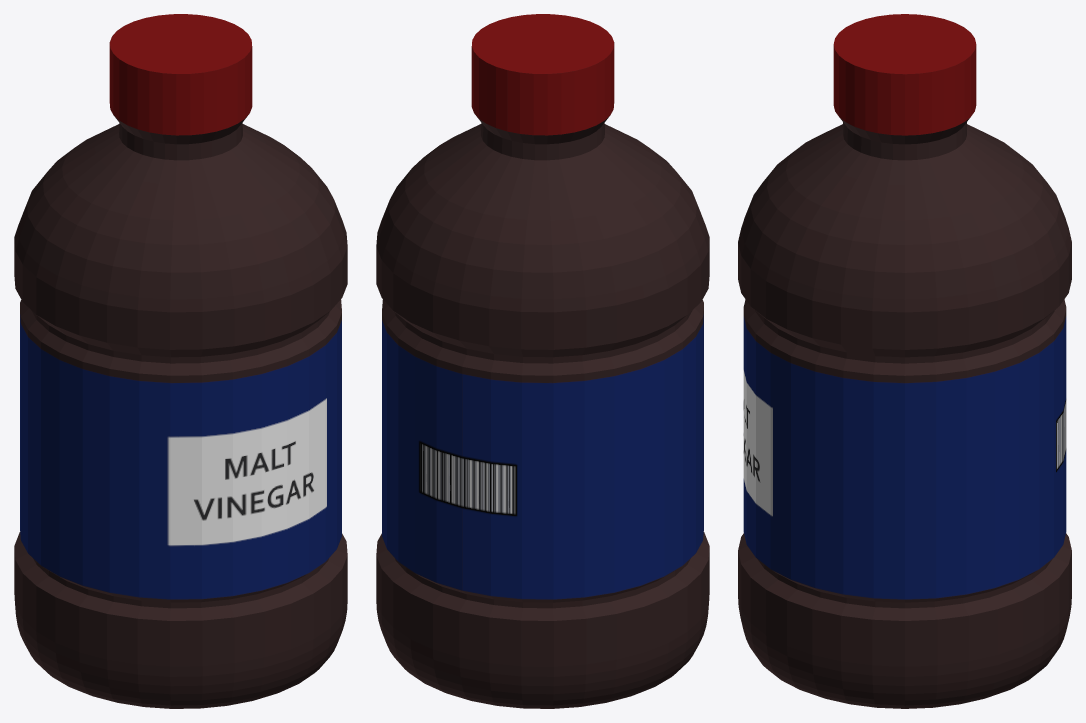
Rendered from vinegar.glb.
3 renders of one model, left to right at view 1: azimuth 30°, elevation 25°; view 2: azimuth 150°, elevation 25°; view 3: azimuth 270°, elevation 25°, orthographic.
Parts seen in each view (by area): view 1: Cylinder; view 2: Cylinder; view 3: Cylinder.
Part boxes in pixels (x1,y1,x2,y2): Cylinder: [14, 14, 347, 708]; Cylinder: [376, 14, 709, 708]; Cylinder: [738, 14, 1071, 708].
Size of the model in its own units: 0.15 by 0.3 by 0.15.
1 material, 1 textured.
